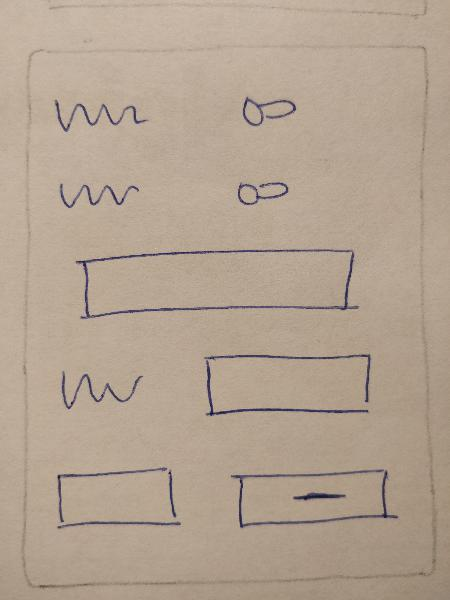button: (222, 457, 407, 537)
switch: (230, 84, 310, 134), (227, 164, 300, 210)
text: (48, 360, 149, 413), (50, 90, 154, 141), (51, 169, 148, 210)
text_input: (59, 242, 375, 328), (194, 341, 381, 426), (48, 458, 189, 541)
